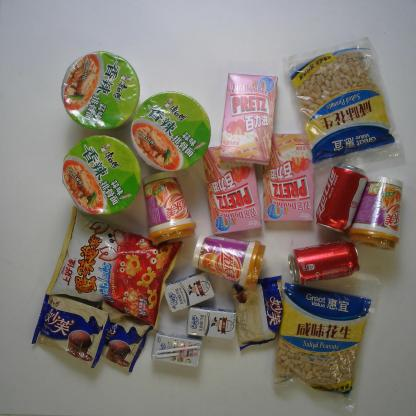Dessert: (29, 290, 109, 368), (200, 143, 263, 238), (218, 71, 278, 167), (260, 132, 316, 223), (90, 300, 151, 374), (230, 274, 284, 352)
Dried Fruit: (284, 39, 400, 172), (272, 276, 373, 410)
Drink: (314, 164, 368, 232), (286, 240, 362, 284)
Instant Drink: (190, 233, 266, 290), (142, 171, 198, 247), (348, 175, 402, 249)
Instant Noodles: (131, 90, 211, 172), (62, 135, 140, 217), (60, 51, 140, 130)
Milk: (162, 270, 217, 314), (149, 332, 204, 367), (186, 306, 238, 338)
Puffed Food: (45, 206, 183, 328)
